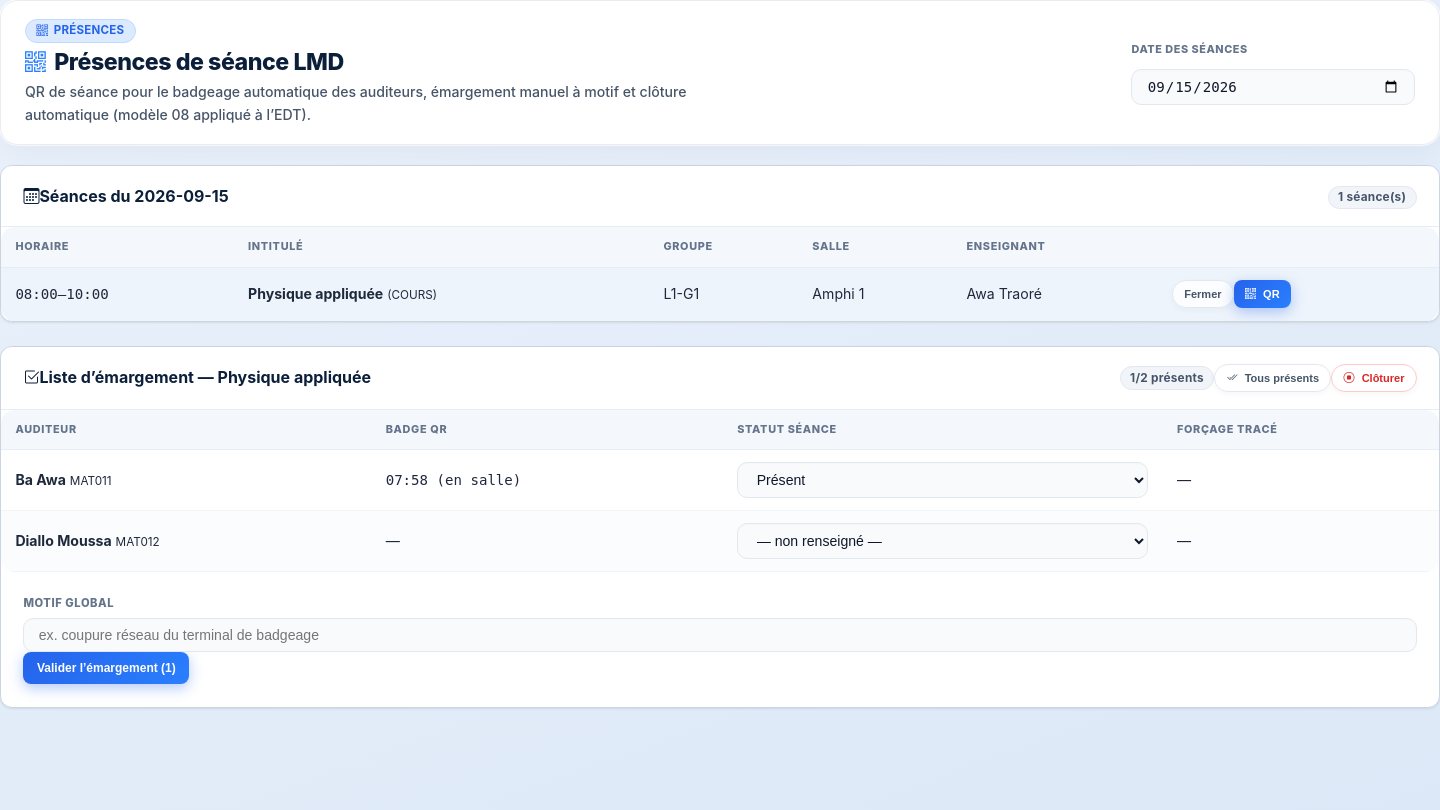
Test: Écran Présences de séance LMD (lot C) › propose la clôture automatique et affiche le bilan
Expected: the text "Ba Awa" is shown, left=15, top=471, right=66, bottom=488
Click the button "Clôturer".
click(1374, 378)  # box left=1331, top=364, right=1417, bottom=392
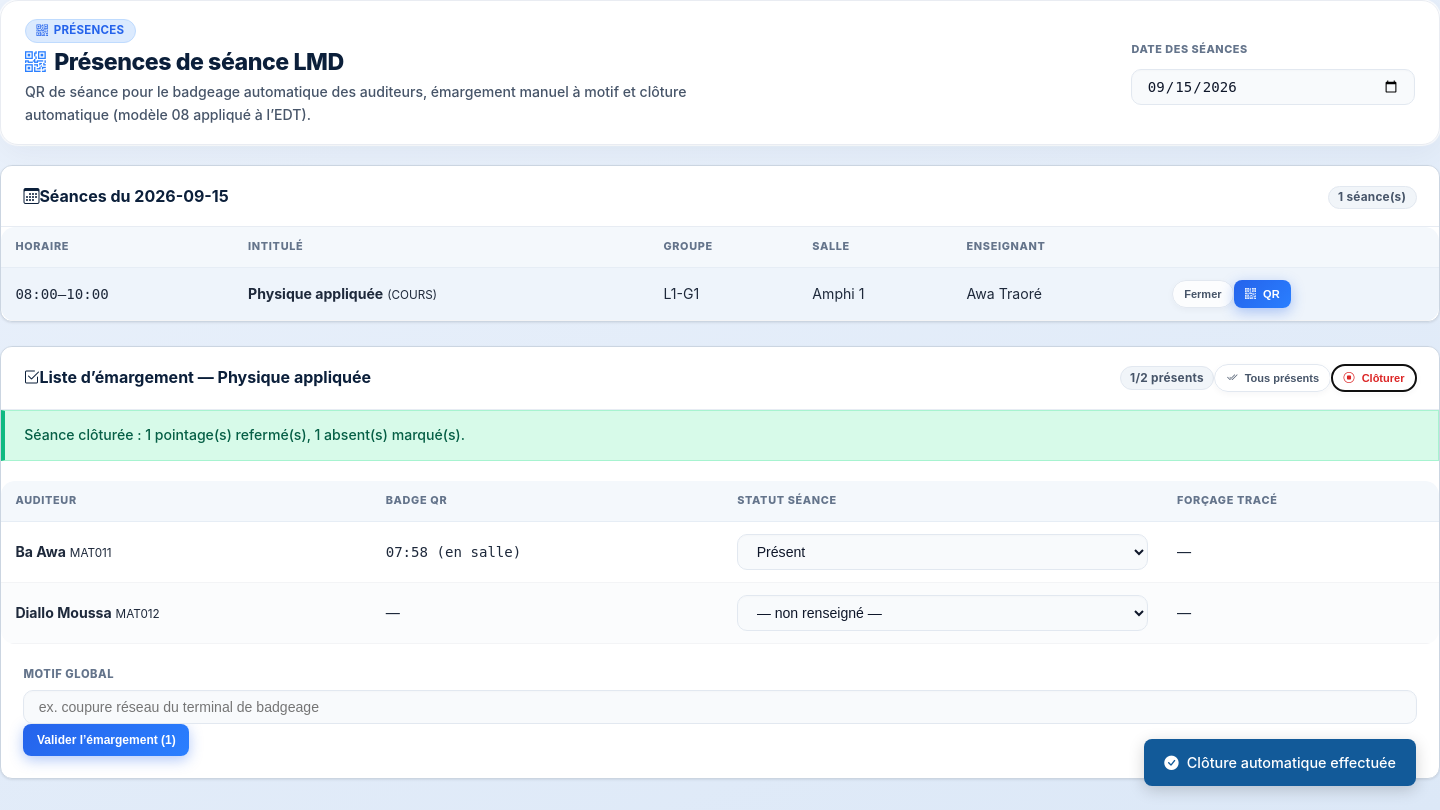
Result: the text "Séance clôturée : 1 pointage(s) refermé(s), 1 absent(s) marqué(s)" is shown at left=24, top=426, right=465, bottom=443
